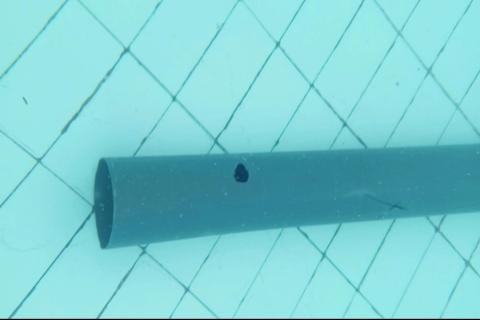kebocoran: (233, 161, 248, 183)
keretakan: (367, 193, 406, 212)
